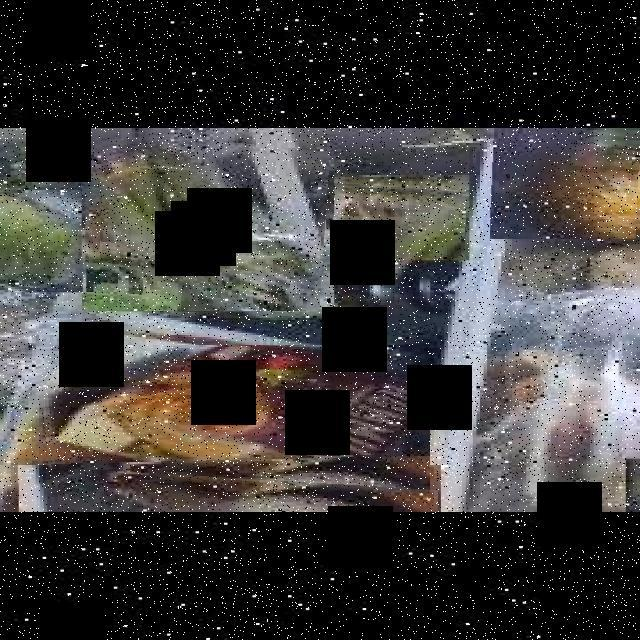asparagus: (82, 128, 330, 311)
bread: (231, 175, 466, 260)
humus: (36, 346, 430, 504)
milk: (14, 465, 438, 512)
pineapple: (490, 128, 640, 239)
salad: (0, 190, 100, 292)
